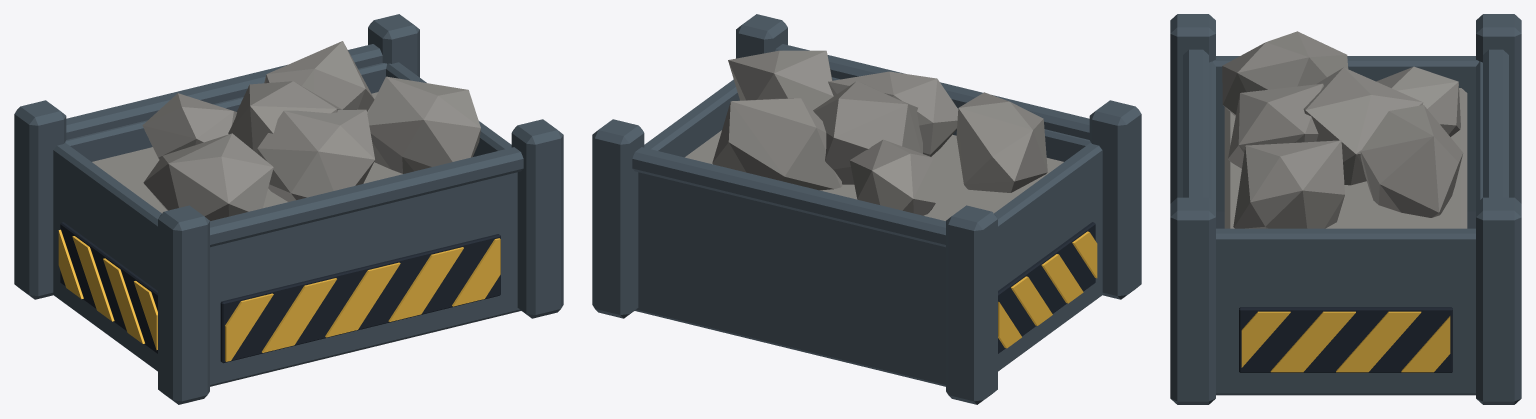
The model's file is Prop_StoneBin.fbx.
3 renders of one model, left to right at view 1: azimuth 30°, elevation 25°; view 2: azimuth 150°, elevation 25°; view 3: azimuth 270°, elevation 25°, orthographic. The views are drawn at different scales.
Parts seen in each view (by area): view 1: Frame, Fill.001, Amber_Metal, Slate; view 2: Frame, Fill.001, Amber_Metal, Slate; view 3: Frame, Fill.001, Slate, Amber_Metal, FrameDark.
Part boxes in pixels (<box>): Frame: <box>14,14,563,404</box>; Fill.001: <box>92,41,480,220</box>; Amber_Metal: <box>58,229,500,361</box>; Slate: <box>60,222,500,363</box>; Frame: <box>592,14,1141,404</box>; Fill.001: <box>685,50,1063,220</box>; Amber_Metal: <box>998,231,1097,348</box>; Slate: <box>998,222,1095,353</box>; Frame: <box>1170,14,1521,404</box>; Fill.001: <box>1222,31,1467,228</box>; Slate: <box>1239,307,1452,372</box>; Amber_Metal: <box>1241,311,1450,372</box>; FrameDark: <box>1216,211,1475,228</box>.
Bounding box in the file's own units: 3.36 × 1.7 × 2.46.
